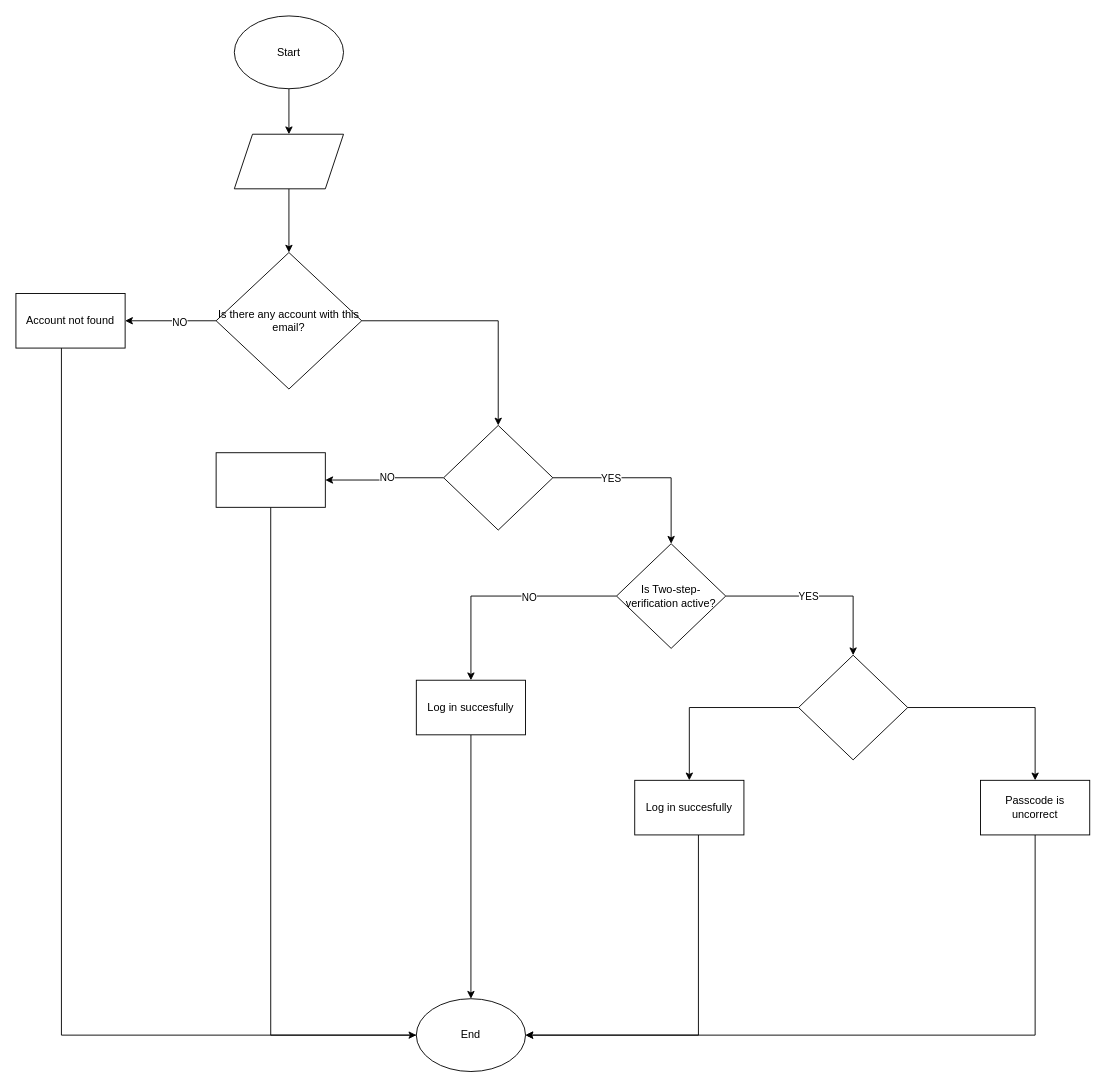
Some shapes in this 1106 by 1087 pixel diagram are drawn without their labels. The shapes that lost their labels are listed below. From the top down, each one's box as (x1, y1, x2, y2) in pixels, then its label:
(233, 133, 344, 189): Email, Pass
(215, 452, 325, 507): Password is uncorrect
(443, 425, 553, 530): Is password correct?
(798, 654, 908, 760): Is the passcode correct?
